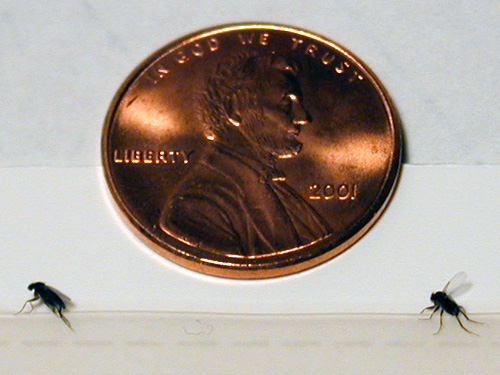phorid fly: (407, 270, 487, 346), (16, 274, 85, 339)
